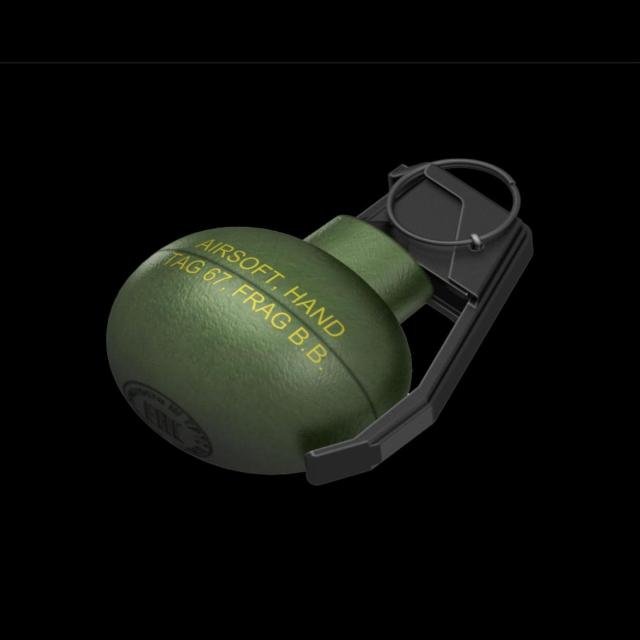grenade: (105, 163, 533, 490)
